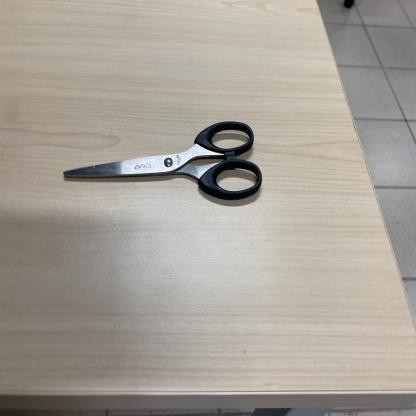scissors: (62, 121, 262, 202)
